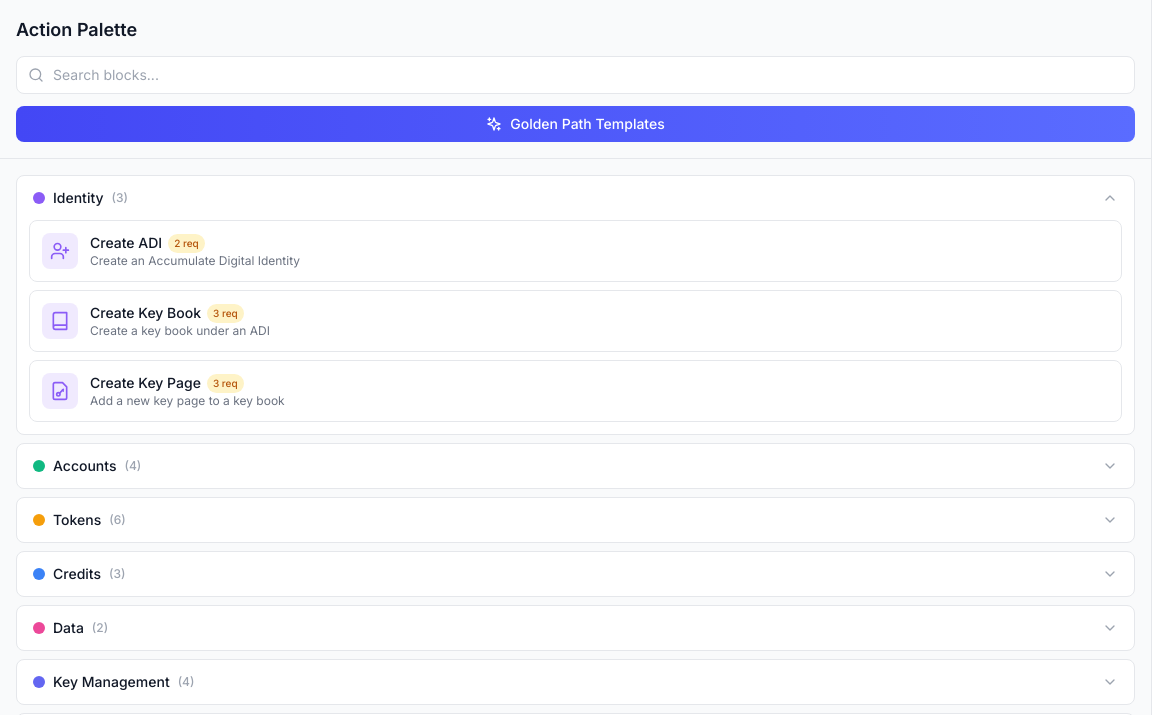
ActionPalette › shows "No blocks found" for unmatched search
Step 1. Type "xyznonexistent" into the field with placeholder "Search blocks..." → x=576, y=75, box [16,56,1135,94]
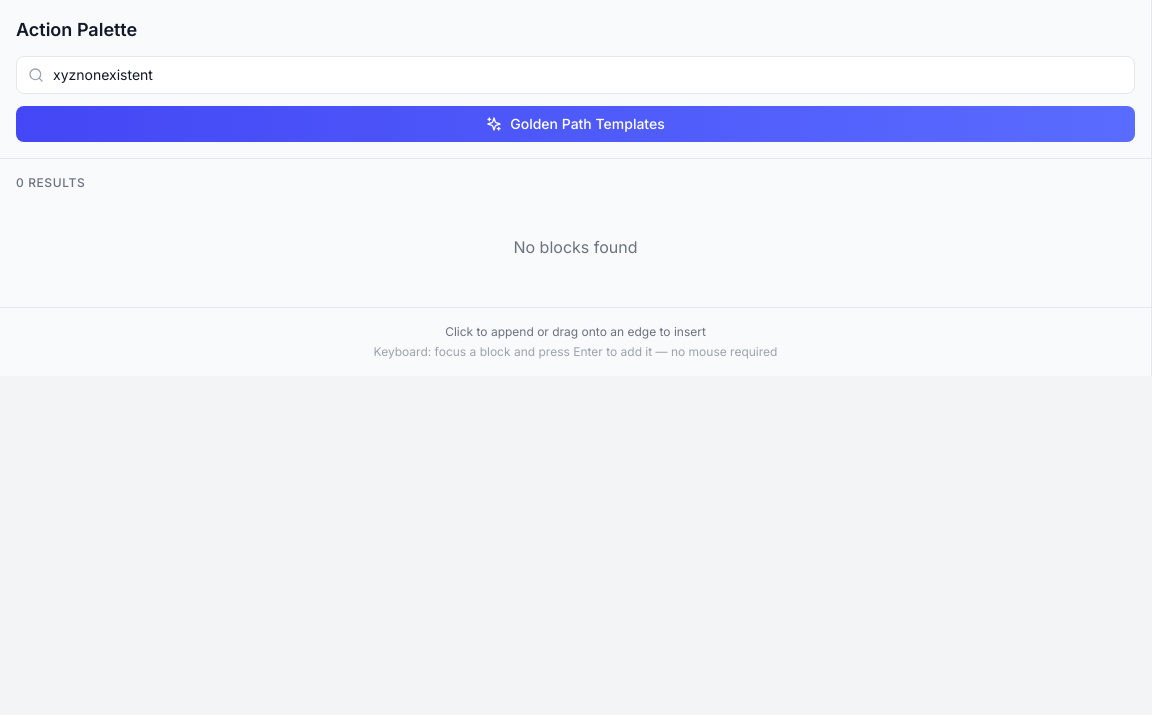
Now the text "No blocks found" is shown, box [514,237,638,257]
